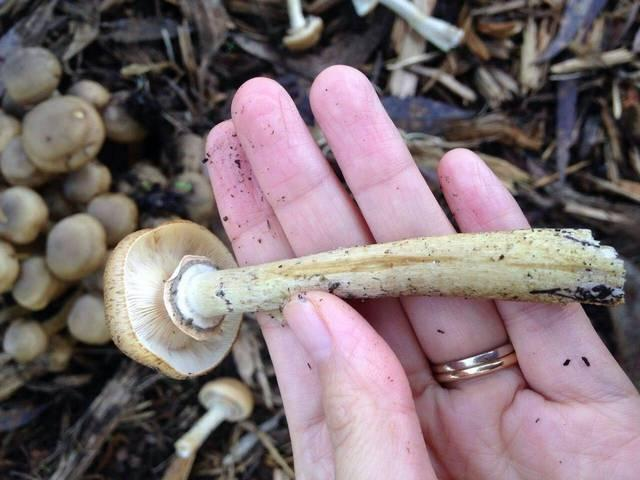Edible Mushroom: (3, 28, 135, 376), (102, 219, 243, 380), (192, 376, 261, 438)
